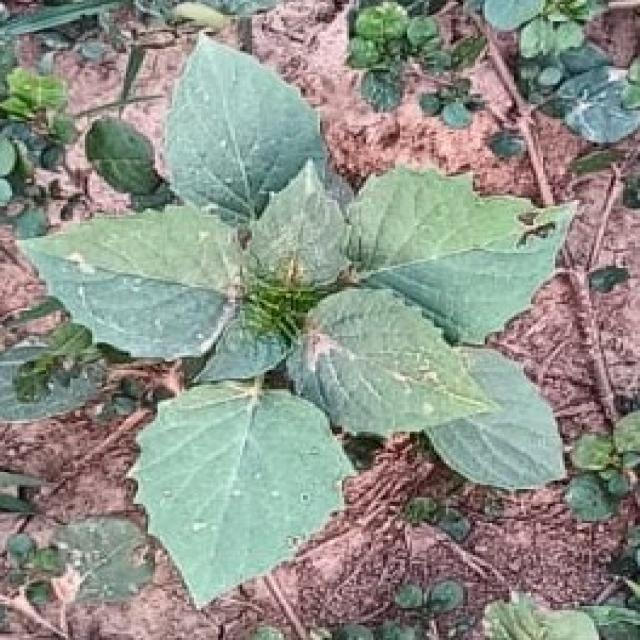weed: (22, 36, 575, 607)
